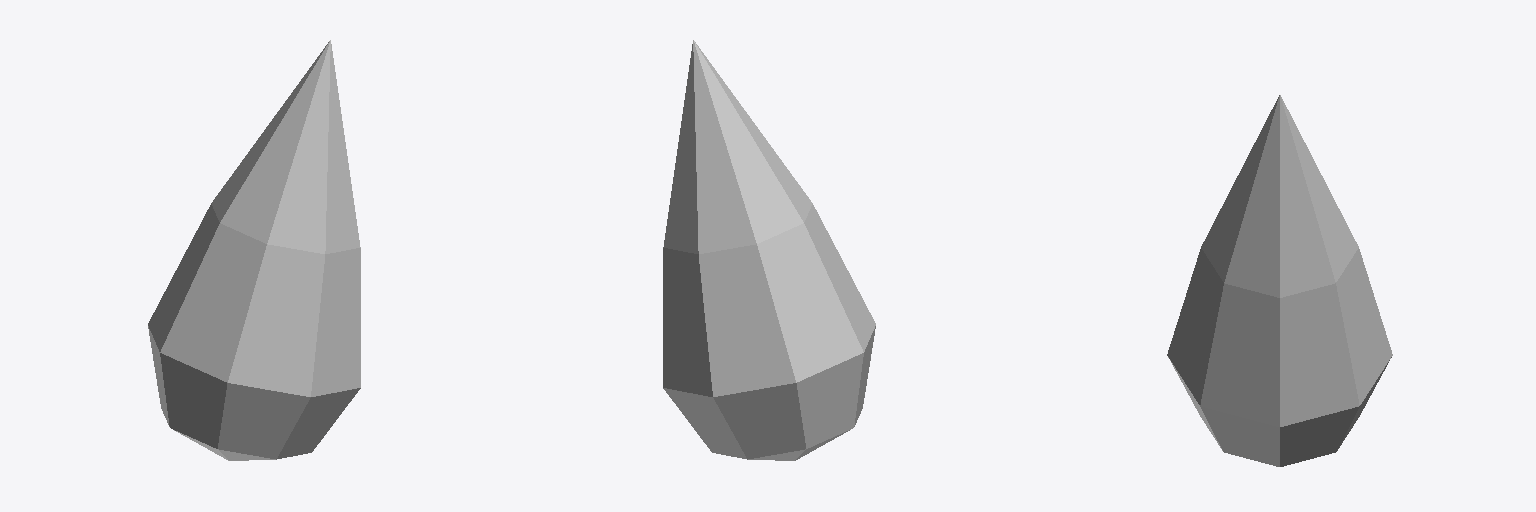
Rendered from water_cycle_raindrop.obj.
3 renders of one model, left to right at view 1: azimuth 30°, elevation 25°; view 2: azimuth 150°, elevation 25°; view 3: azimuth 270°, elevation 25°, orthographic.
Parts seen in each view (by area): view 1: DROPLET001; view 2: DROPLET001; view 3: DROPLET001.
Part boxes in pixels (bbox=[...]): DROPLET001: bbox=[148, 40, 360, 460]; DROPLET001: bbox=[663, 40, 875, 460]; DROPLET001: bbox=[1167, 95, 1392, 466].
Size of the model in its own units: 0.6285 by 1.24 by 0.64.